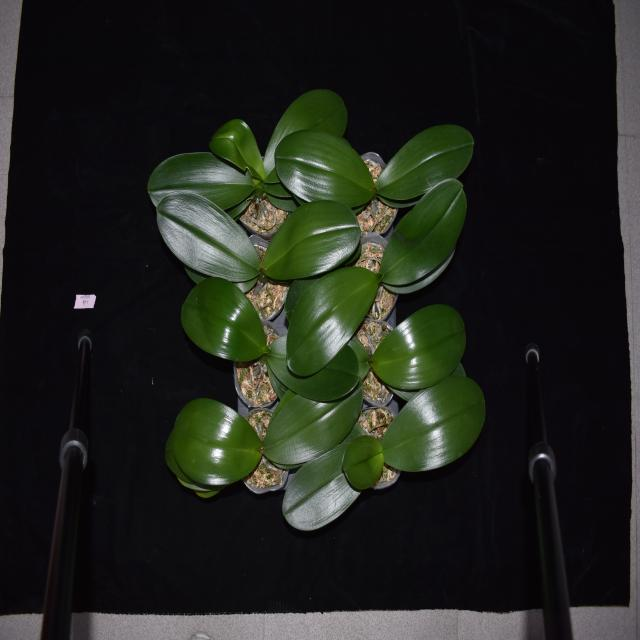leaf: (284, 265, 383, 381), (379, 174, 472, 293), (383, 372, 489, 474), (267, 369, 367, 472), (154, 190, 263, 284), (284, 428, 376, 538), (170, 396, 260, 498), (262, 200, 363, 288), (373, 118, 475, 205), (367, 304, 470, 388), (180, 274, 270, 364), (266, 88, 349, 178), (275, 136, 376, 206), (145, 148, 261, 206), (267, 342, 361, 399), (208, 117, 266, 183), (339, 431, 384, 491)
